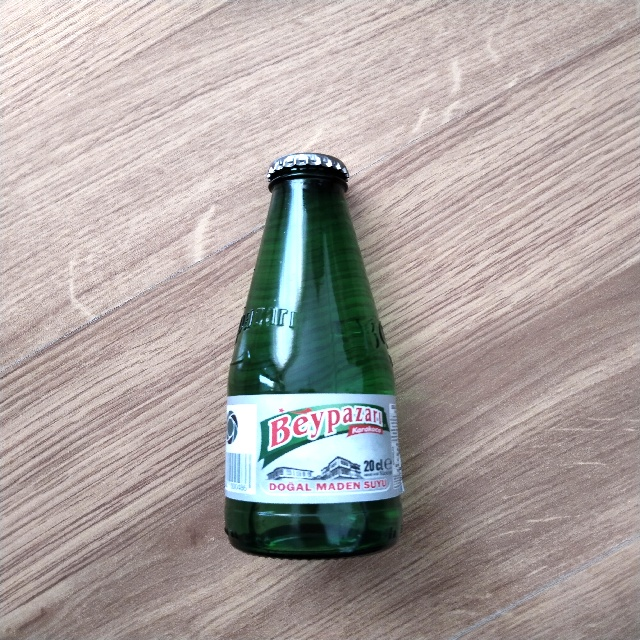beypazari_maden_suyu: (223, 149, 401, 555)
